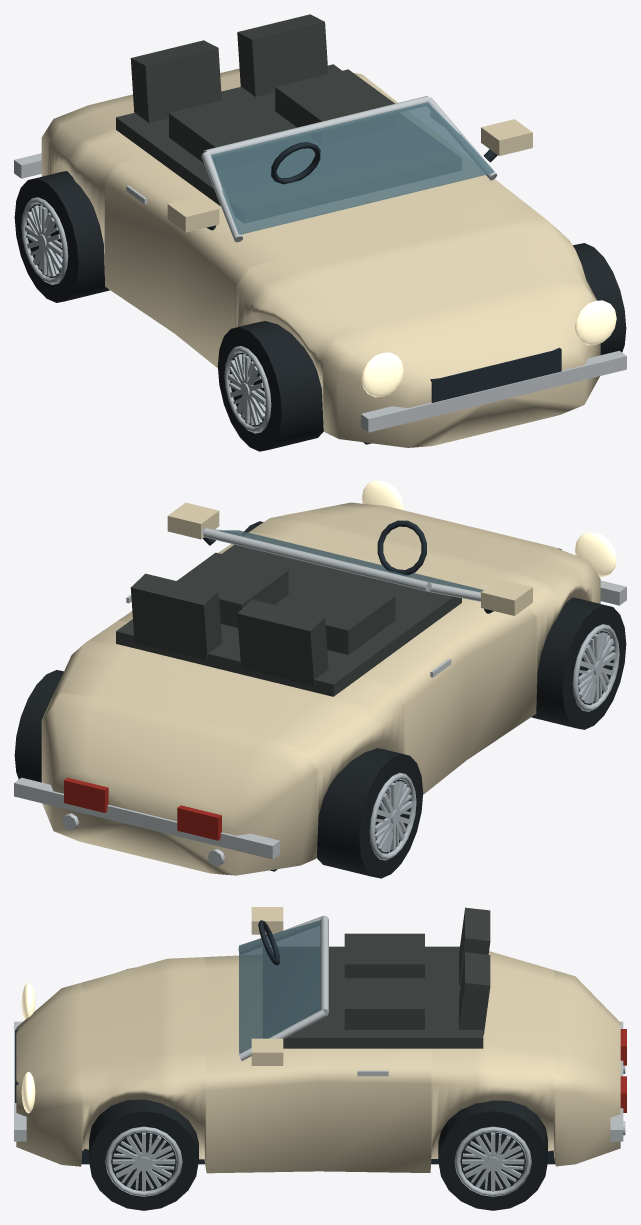
File: speedwell.glb
3 renders of one model, top to bottom at view 1: azimuth 30°, elevation 25°; view 2: azimuth 150°, elevation 25°; view 3: azimuth 270°, elevation 25°, orthographic. The views are drawn at different scales.
Parts seen in each view (by area): view 1: exterior-paint, interior, windows, tire-front-left, chrome, tire-rear-left, black-trim, rim-front-left, rim-rear-left, headlights, tire-front-right; view 2: exterior-paint, interior, tire-rear-left, chrome, tire-front-left, rim-front-left, rim-rear-left, tire-rear-right, taillights, headlights, windows, black-trim; view 3: exterior-paint, interior, windows, tire-front-right, tire-rear-right, rim-rear-right, rim-front-right, chrome, black-trim, headlights, taillights.
Boxes of the visible parts, x1=… form: exterior-paint: x1=41, y1=68, x2=600, y2=447; interior: x1=116, y1=14, x2=461, y2=218; windows: x1=211, y1=102, x2=493, y2=234; tire-front-left: x1=217, y1=321, x2=323, y2=451; chrome: x1=14, y1=96, x2=626, y2=432; tire-rear-left: x1=14, y1=171, x2=109, y2=302; black-trim: x1=206, y1=142, x2=561, y2=444; rim-front-left: x1=224, y1=346, x2=271, y2=433; rim-rear-left: x1=21, y1=197, x2=68, y2=284; headlights: x1=361, y1=300, x2=616, y2=397; tire-front-right: x1=573, y1=243, x2=626, y2=354; exterior-paint: x1=41, y1=502, x2=600, y2=875; interior: x1=116, y1=544, x2=461, y2=696; tire-rear-left: x1=317, y1=748, x2=423, y2=878; chrome: x1=14, y1=528, x2=626, y2=866; tire-front-left: x1=531, y1=597, x2=626, y2=729; rim-front-left: x1=572, y1=624, x2=619, y2=711; rim-rear-left: x1=369, y1=773, x2=416, y2=860; tire-rear-right: x1=14, y1=670, x2=63, y2=782; taillights: x1=64, y1=777, x2=221, y2=840; headlights: x1=361, y1=480, x2=616, y2=577; windows: x1=219, y1=530, x2=483, y2=592; black-trim: x1=203, y1=520, x2=561, y2=871; exterior-paint: x1=16, y1=907, x2=620, y2=1173; interior: x1=263, y1=907, x2=490, y2=1048; windows: x1=239, y1=920, x2=320, y2=1053; tire-front-right: x1=89, y1=1099, x2=198, y2=1210; tire-rear-right: x1=438, y1=1100, x2=547, y2=1210; rim-rear-right: x1=454, y1=1126, x2=531, y2=1196; rim-front-right: x1=105, y1=1126, x2=182, y2=1196; chrome: x1=14, y1=915, x2=625, y2=1141; black-trim: x1=15, y1=920, x2=555, y2=1164; headlights: x1=21, y1=982, x2=35, y2=1113; taillights: x1=620, y1=1029, x2=626, y2=1112.
Size of the model in its own units: 1.8 by 1.09 by 3.12.
